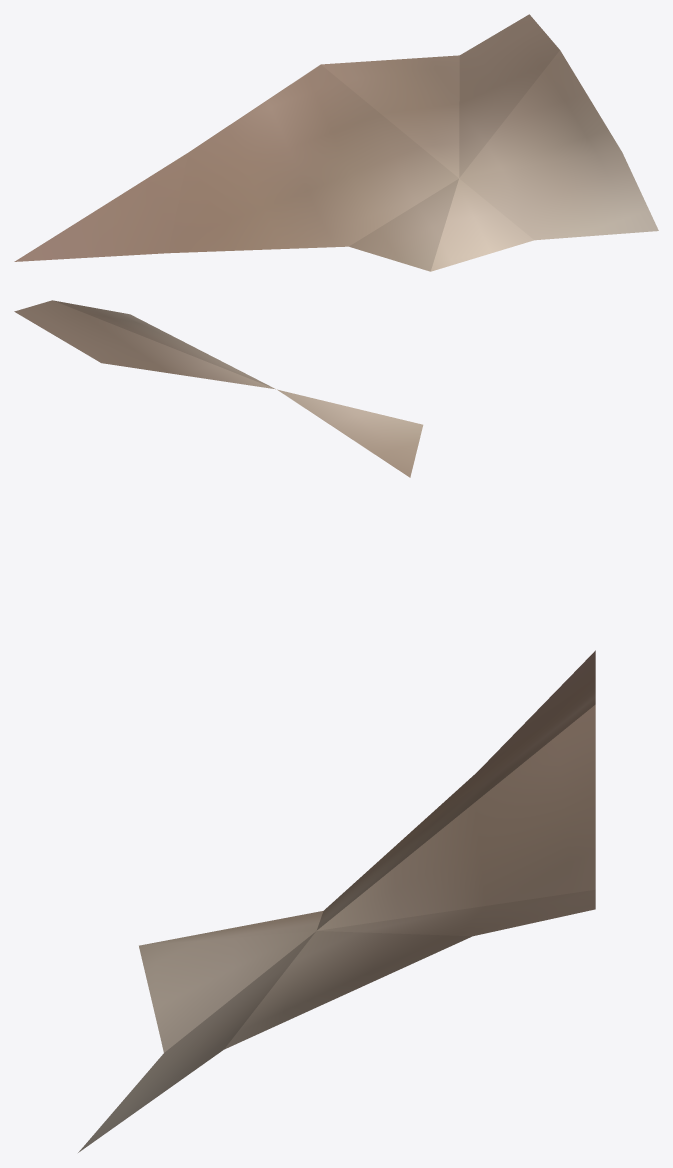
The picture shows the model from 3 angles, top to bottom: view 1: azimuth 30°, elevation 25°; view 2: azimuth 150°, elevation 25°; view 3: azimuth 270°, elevation 25°; orthographic projection. The views are drawn at different scales.
Bounding box in the file's own units: 0.0793 × 0.018 × 0.0345.
Materials: 1 (1 with a texture image).
